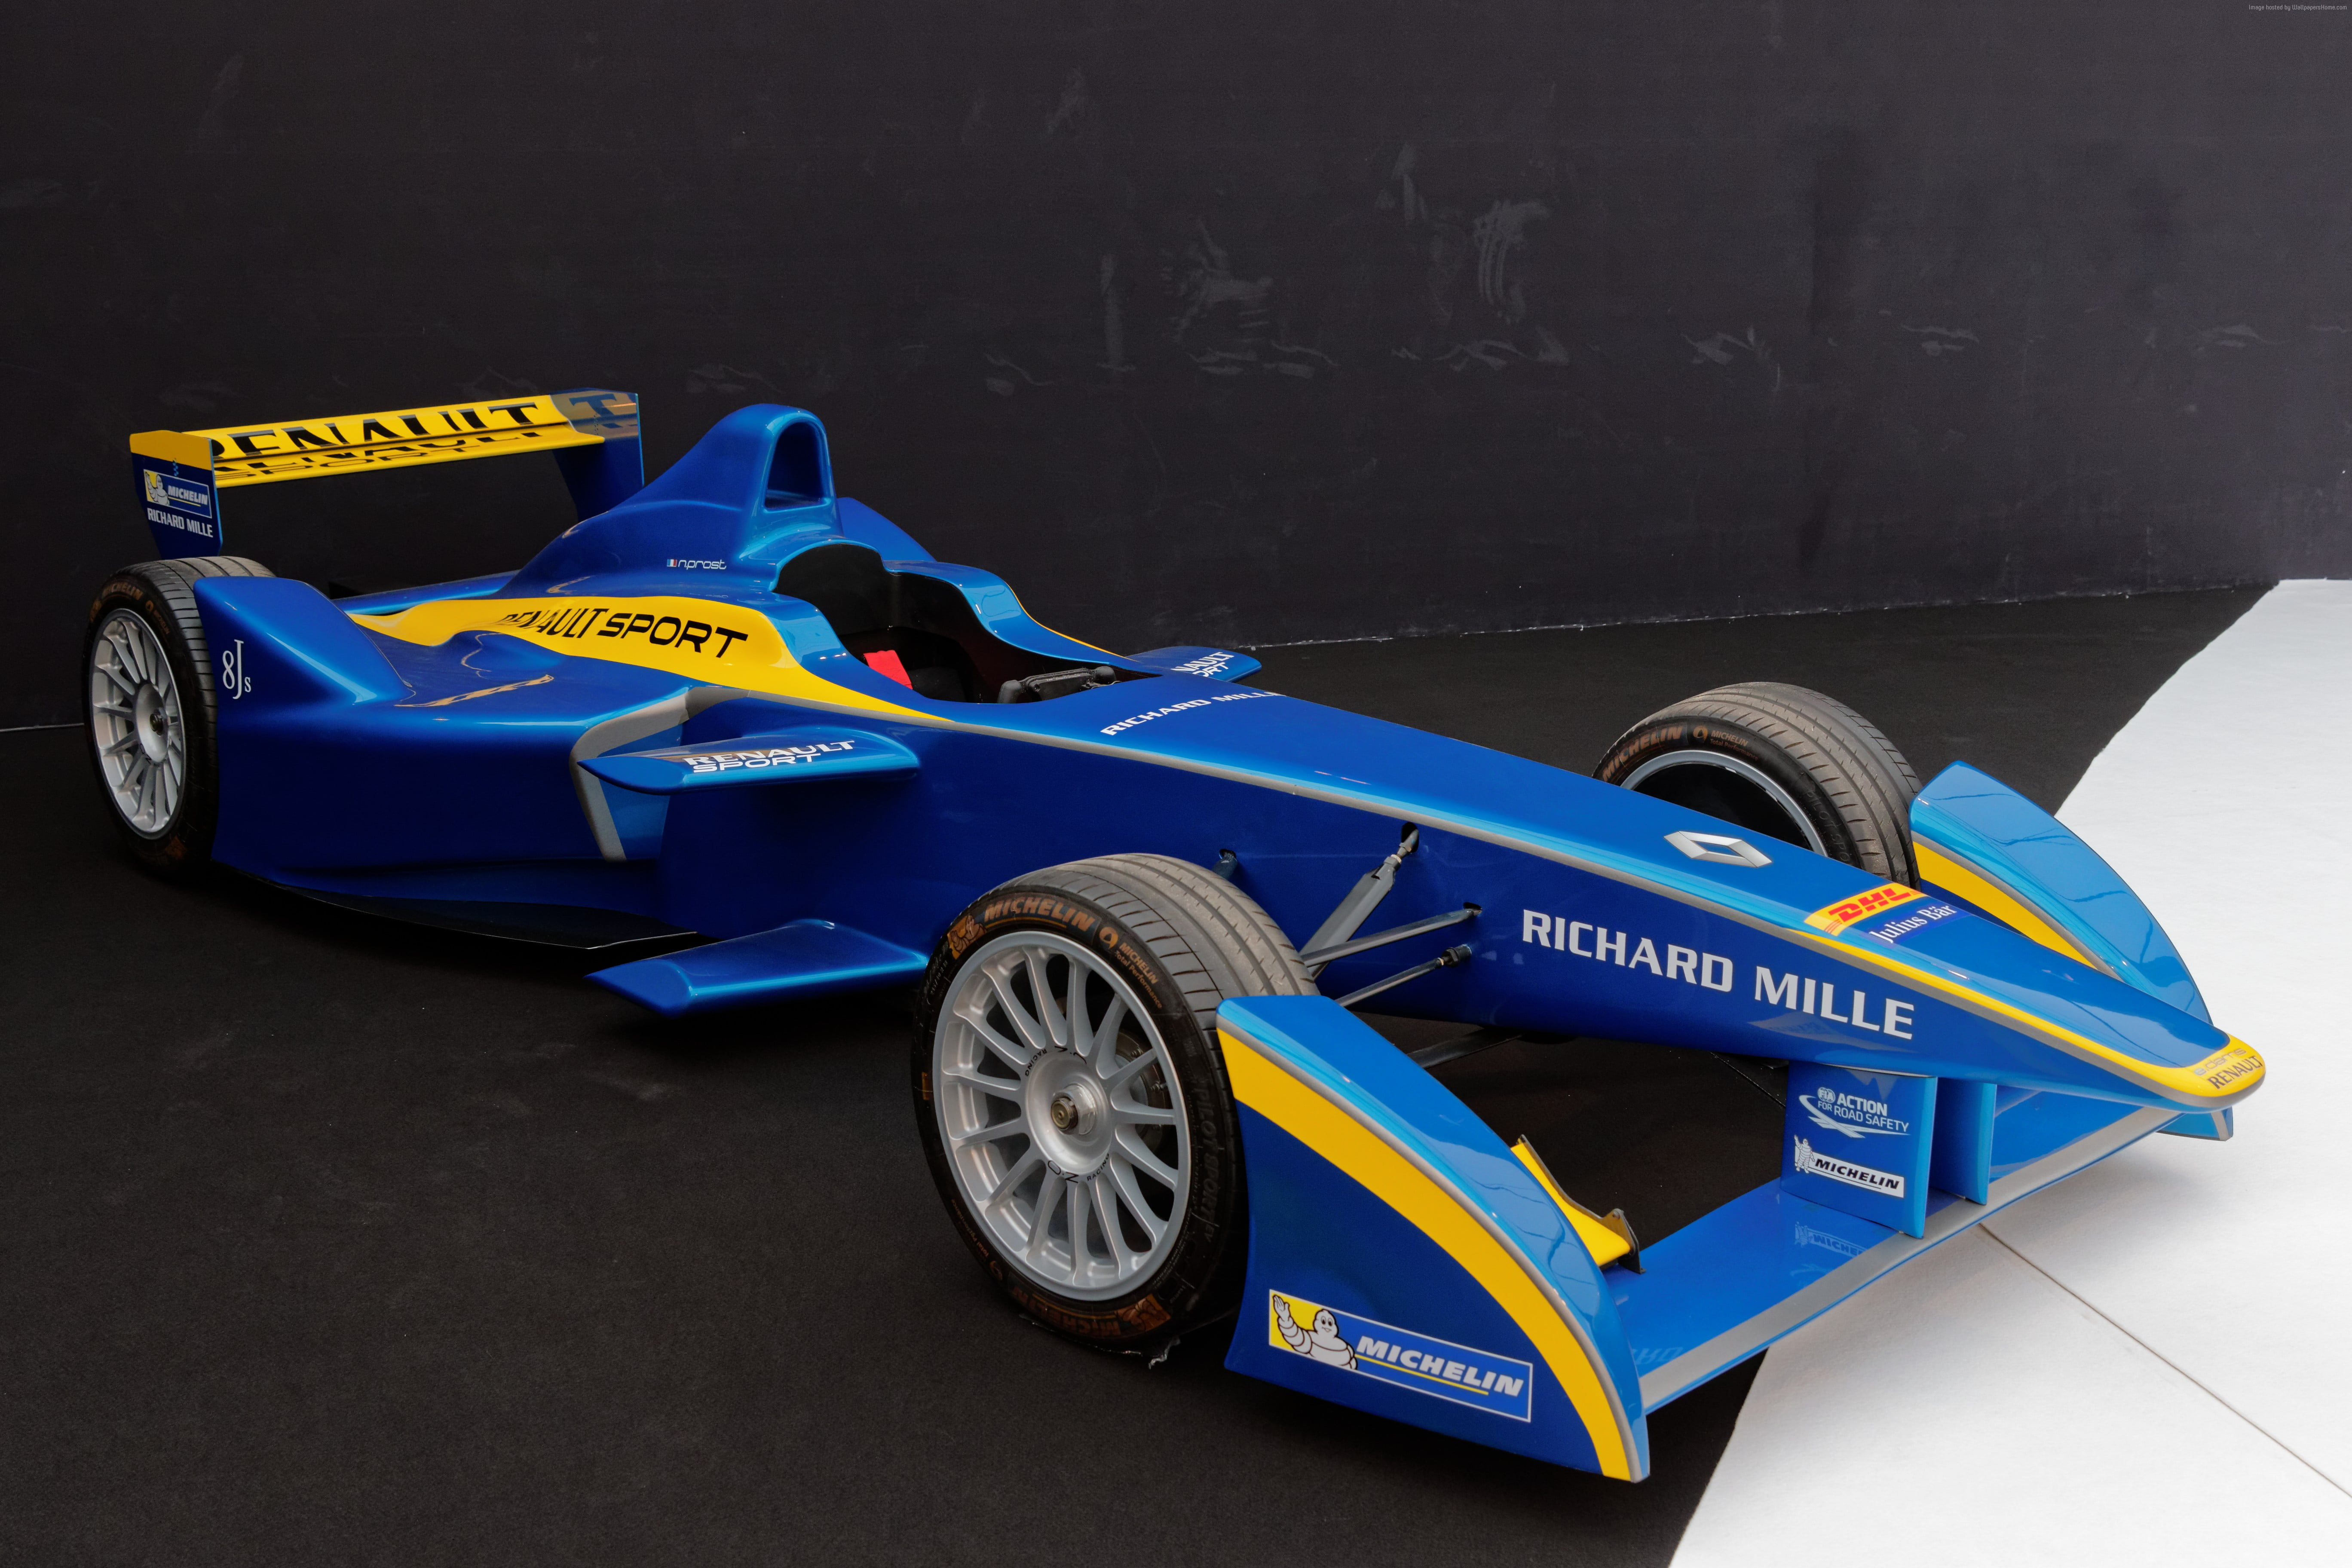f1_car: (47, 334, 2284, 1524)
